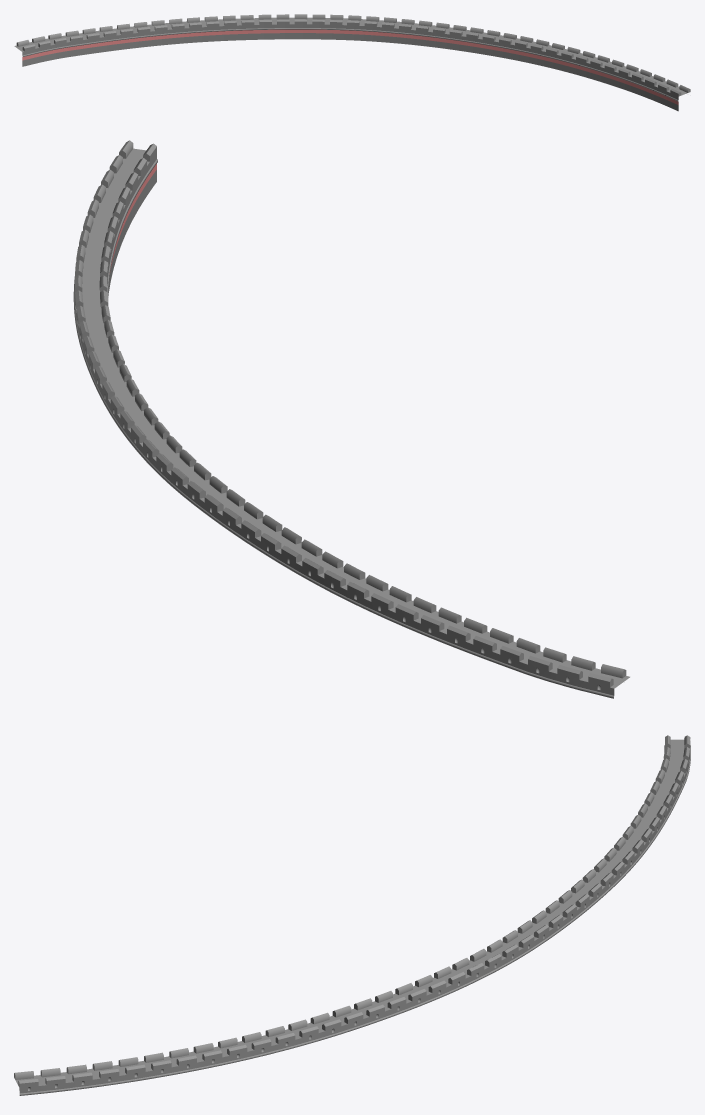
Rendered from CHN_StadiumWalls03.gltf.
3 renders of one model, top to bottom at view 1: azimuth 30°, elevation 25°; view 2: azimuth 150°, elevation 25°; view 3: azimuth 270°, elevation 25°, orthographic. The views are drawn at different scales.
Visible parts, largest first — view 1: CHN_StadiumWalls03; view 2: CHN_StadiumWalls03; view 3: CHN_StadiumWalls03.
Boxes of the visible parts, x1=… form: CHN_StadiumWalls03: x1=14, y1=14, x2=690, y2=111; CHN_StadiumWalls03: x1=73, y1=140, x2=629, y2=698; CHN_StadiumWalls03: x1=14, y1=735, x2=690, y2=1095.
Size of the model in its own units: 134 by 5.23 by 110.
